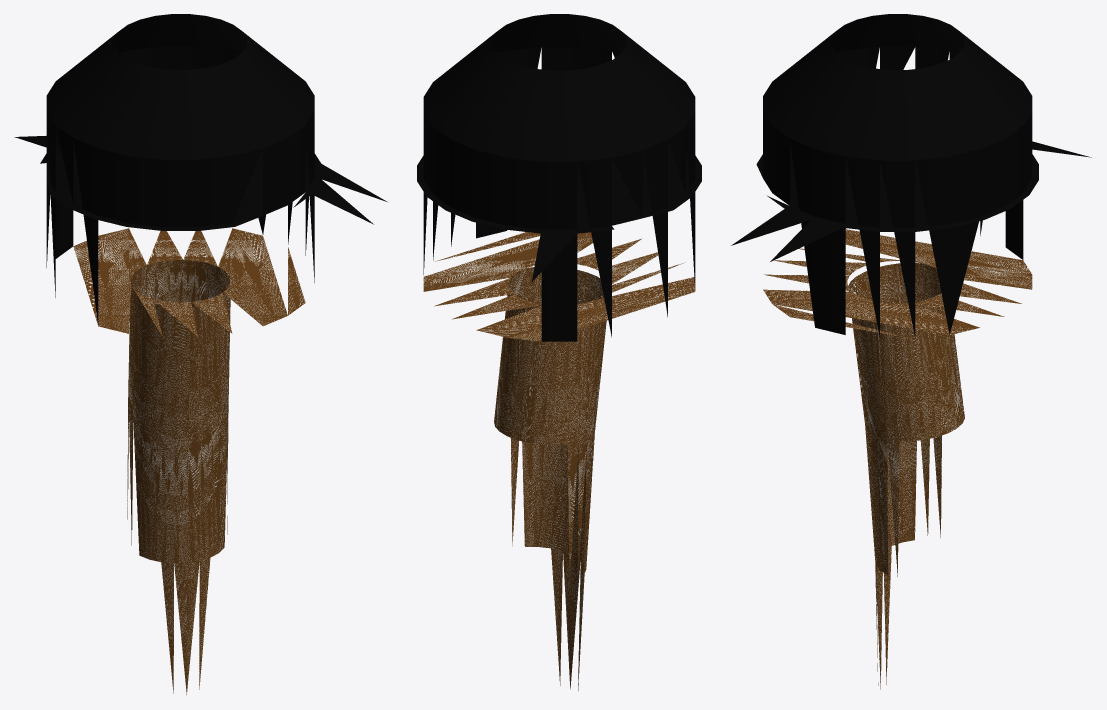
3 renders of one model, left to right at view 1: azimuth 30°, elevation 25°; view 2: azimuth 150°, elevation 25°; view 3: azimuth 270°, elevation 25°, orthographic.
Bounding box in the file's own units: 0.1903 × 0.4419 × 0.2233.
